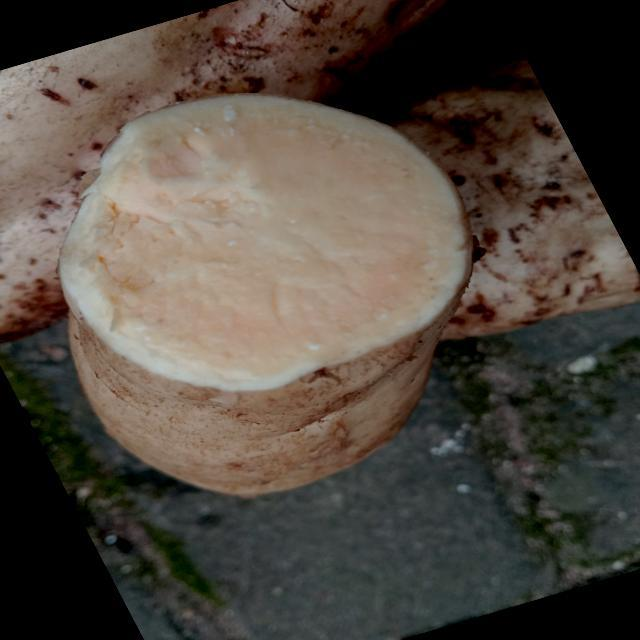Healthy Sweet Potato: (60, 95, 467, 390)
